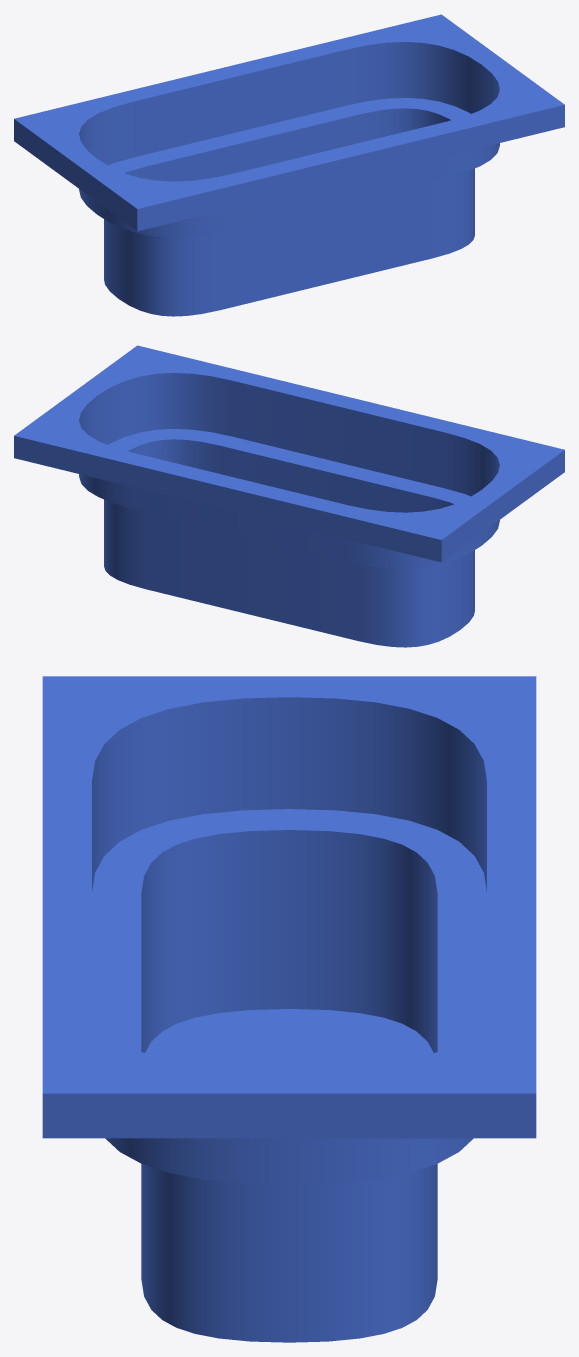
The model's file is Ceiling_2x1m_C.FBX.
The picture shows the model from 3 angles, top to bottom: view 1: azimuth 30°, elevation 25°; view 2: azimuth 150°, elevation 25°; view 3: azimuth 270°, elevation 25°; orthographic projection. The views are drawn at different scales.
Parts seen in each view (by area): view 1: Ceiling_2x1m_C; view 2: Ceiling_2x1m_C; view 3: Ceiling_2x1m_C.
Boxes of the visible parts, x1=… form: Ceiling_2x1m_C: x1=14, y1=14, x2=564, y2=316; Ceiling_2x1m_C: x1=14, y1=345, x2=564, y2=647; Ceiling_2x1m_C: x1=42, y1=676, x2=536, y2=1342.
Bounding box in the file's own units: 200 × 65 × 100.
